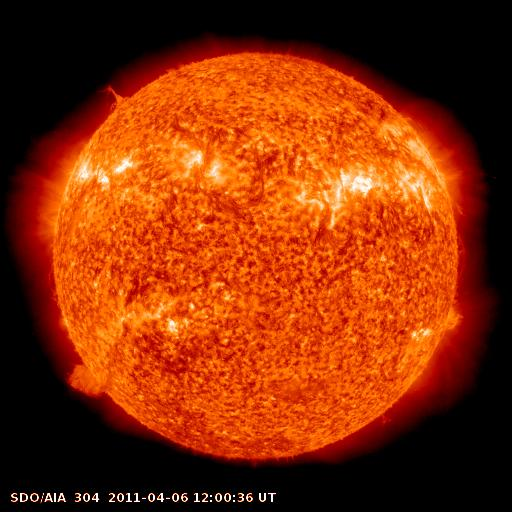prominence: (57, 352, 114, 408), (92, 73, 143, 119), (42, 253, 71, 316), (435, 301, 472, 342), (449, 225, 473, 279)
